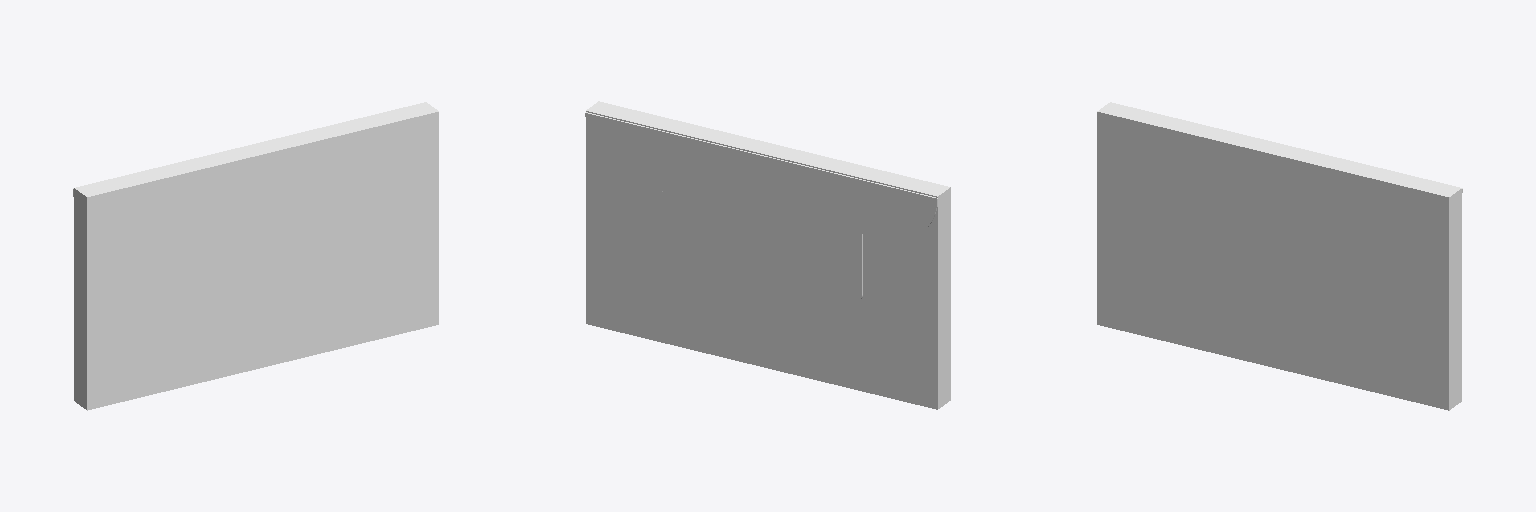
File: CBEnvelope.obj
3 renders of one model, left to right at view 1: azimuth 30°, elevation 25°; view 2: azimuth 150°, elevation 25°; view 3: azimuth 330°, elevation 25°, orthographic.
Visible parts, largest first — view 1: 004_EnvelopeFront_1, 006_EnvelopeTop_1, 008_EnvelopeLeft_1; view 2: 005_EnvelopeBack_1, 000_EnvelopeClosingOutside, 006_EnvelopeTop_1, 008_EnvelopeLeft_1; view 3: 004_EnvelopeFront_1, 006_EnvelopeTop_1, 007_EnvelopeRight_1.
Boxes of the visible parts, <box> form: 004_EnvelopeFront_1: <box>87,112,438,410</box>; 006_EnvelopeTop_1: <box>75,102,438,196</box>; 008_EnvelopeLeft_1: <box>74,188,86,409</box>; 005_EnvelopeBack_1: <box>586,111,937,409</box>; 000_EnvelopeClosingOutside: <box>585,113,936,300</box>; 006_EnvelopeTop_1: <box>586,101,949,196</box>; 008_EnvelopeLeft_1: <box>938,187,950,408</box>; 004_EnvelopeFront_1: <box>1097,112,1448,410</box>; 006_EnvelopeTop_1: <box>1097,102,1461,196</box>; 007_EnvelopeRight_1: <box>1449,189,1461,410</box>.
Size of the model in its own units: 235 by 136 by 16.09.